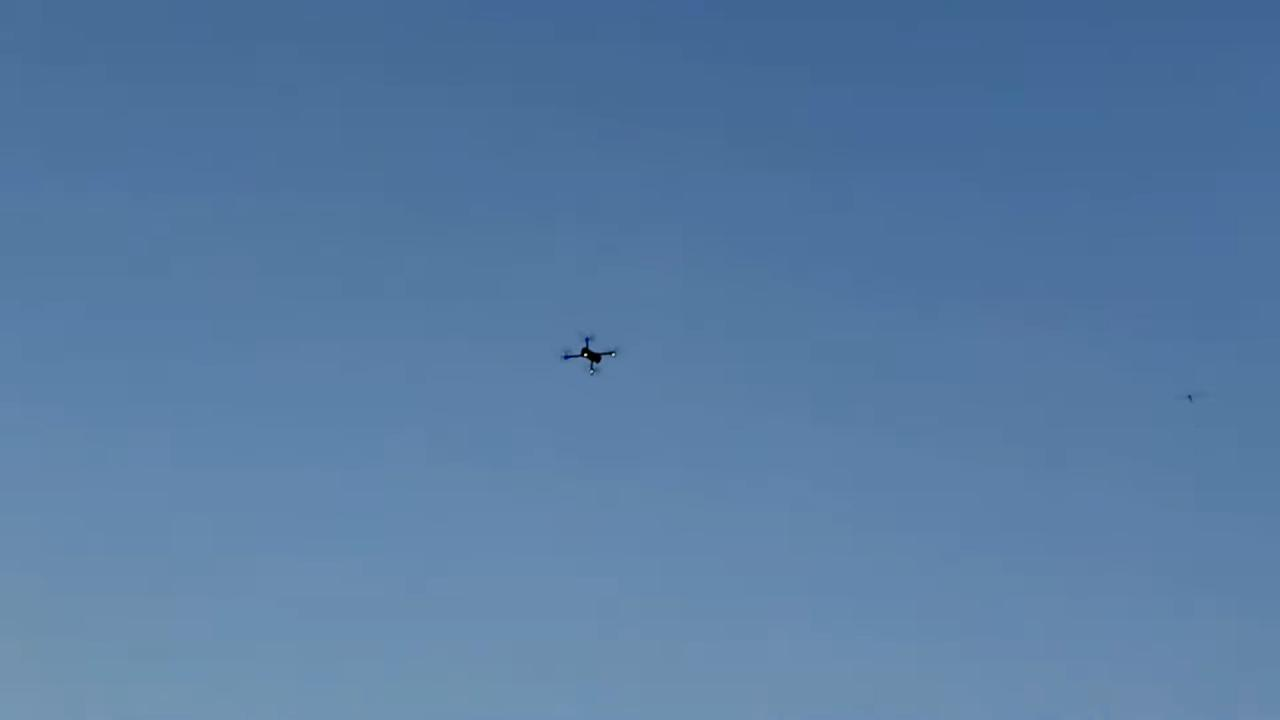Drone: (544, 318, 636, 393)
